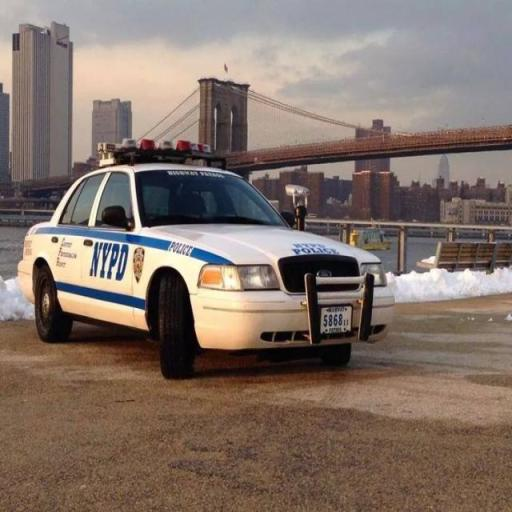Ambulance: (18, 130, 391, 376)
